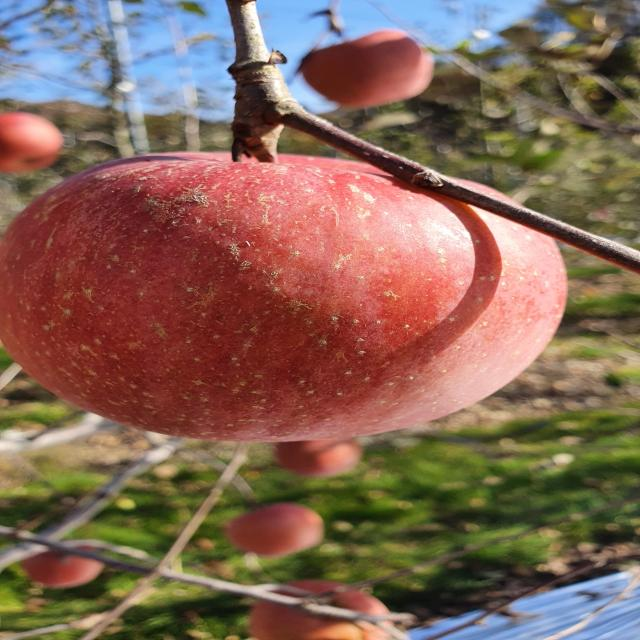fresh: (1, 139, 593, 459)
